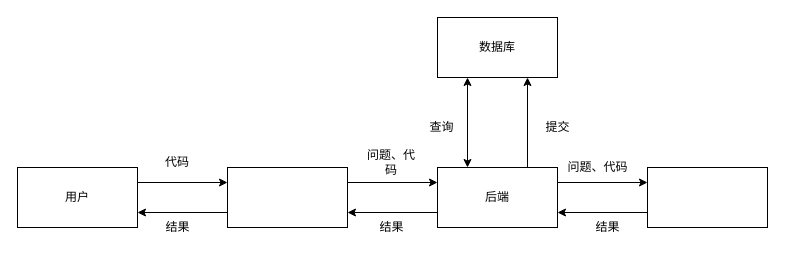
The diagram is 785 pixels wide and 255 high, and some of its shapes have lost their labels. Here are the shapes that lost their labels. From the top down, the centre of each, then its label:
At (x=287, y=197): "前端".
At (x=707, y=197): "判题服务器".
